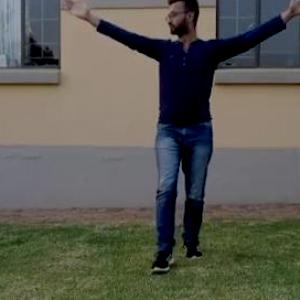takeoff: (89, 5, 257, 210)
